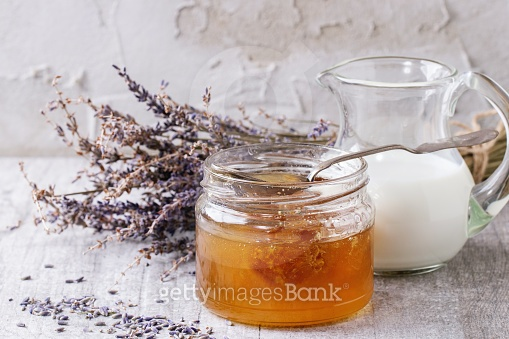glass of milk: (331, 52, 480, 267)
